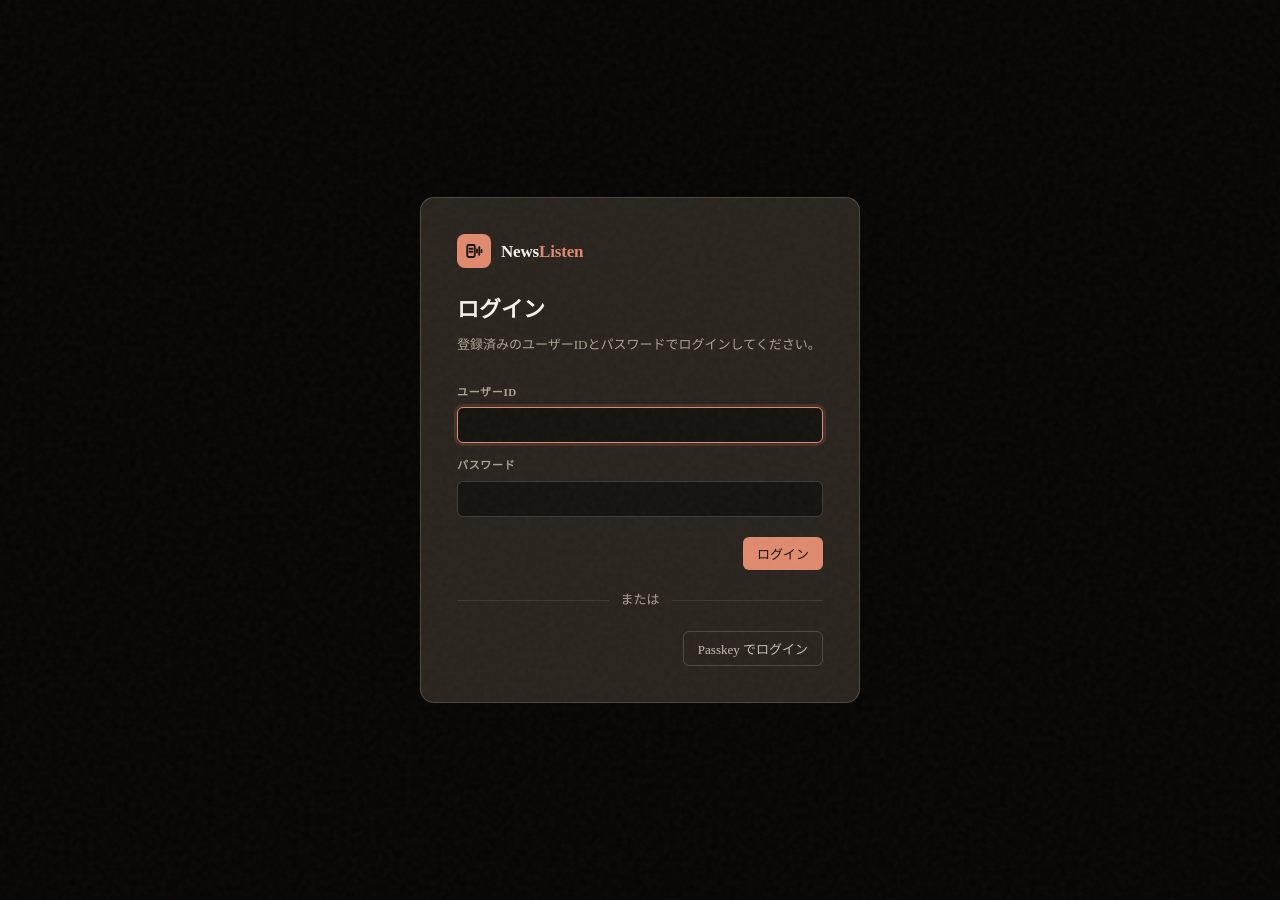
LoginModal — Passkey ボタン › API エラー時は汎用失敗メッセージを表示する
What coordinates should you click on to do the following:
click the button "Passkey でログイン"
I would click on:
 (753, 648)
Its box is [683,631,823,666].
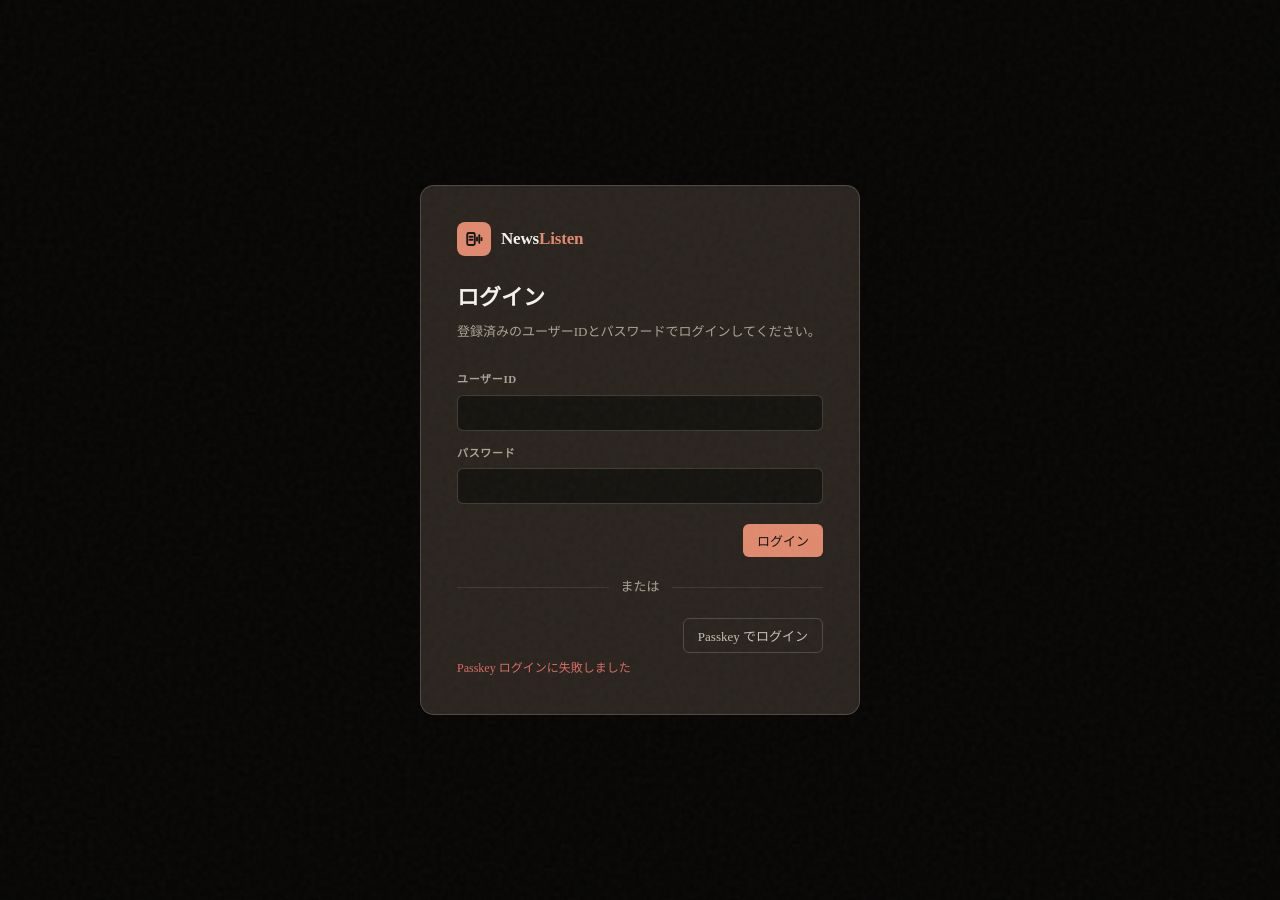
Result: the message shows "Passkey" at [457,661,631,675]
